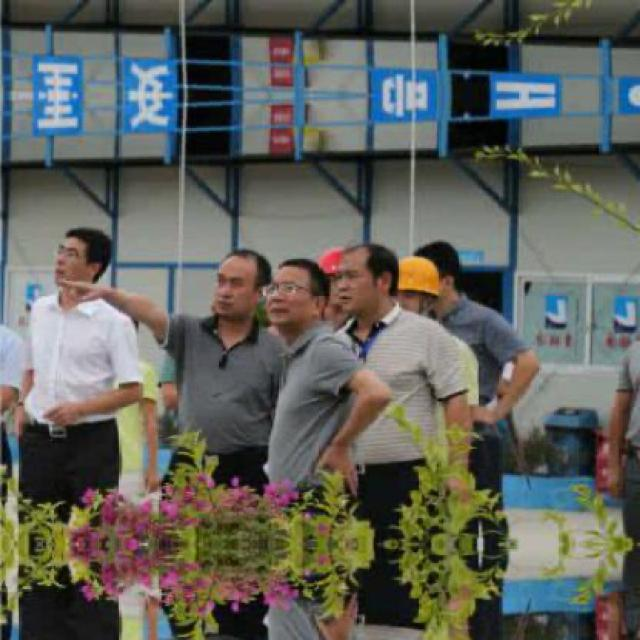con casco: (386, 255, 443, 335)
sin casco: (26, 219, 136, 333), (262, 244, 366, 362), (190, 238, 284, 343), (334, 222, 416, 328), (416, 230, 490, 333)
